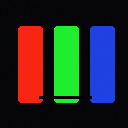3 line_h: (39, 96, 91, 98)
